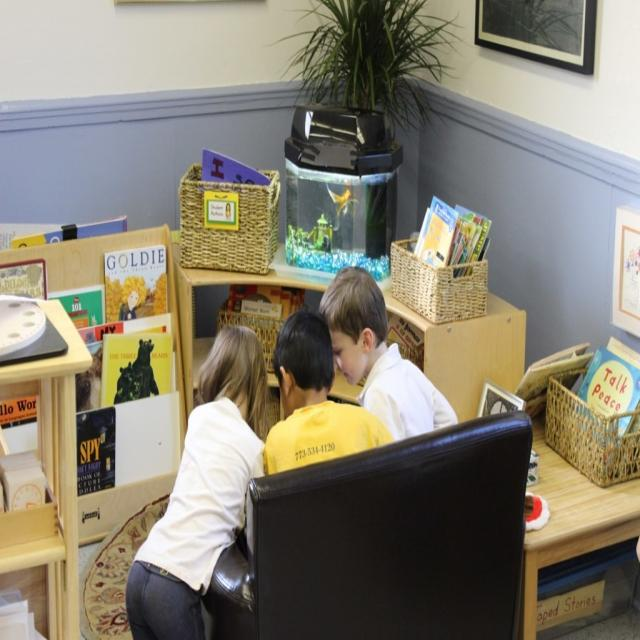chair: (234, 412, 534, 634)
desk: (524, 419, 639, 633)
person: (125, 324, 272, 634), (319, 266, 459, 442), (263, 308, 396, 474)
